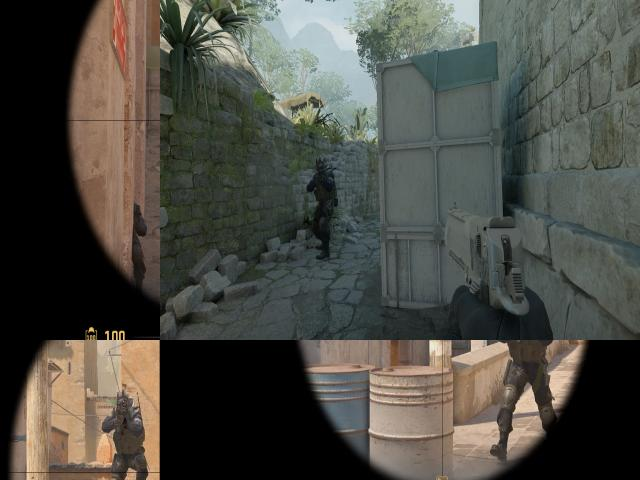CT: (502, 340, 546, 424), (110, 389, 145, 480), (132, 198, 147, 286)
CT-Head: (300, 158, 340, 266), (312, 156, 330, 177), (116, 392, 130, 413)
